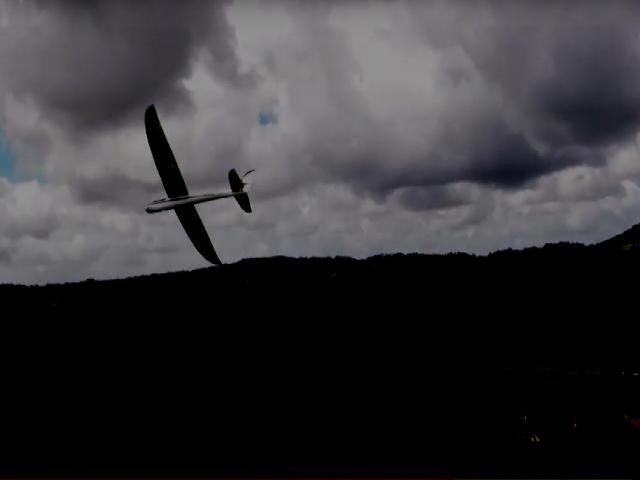iha: (129, 101, 253, 264)
